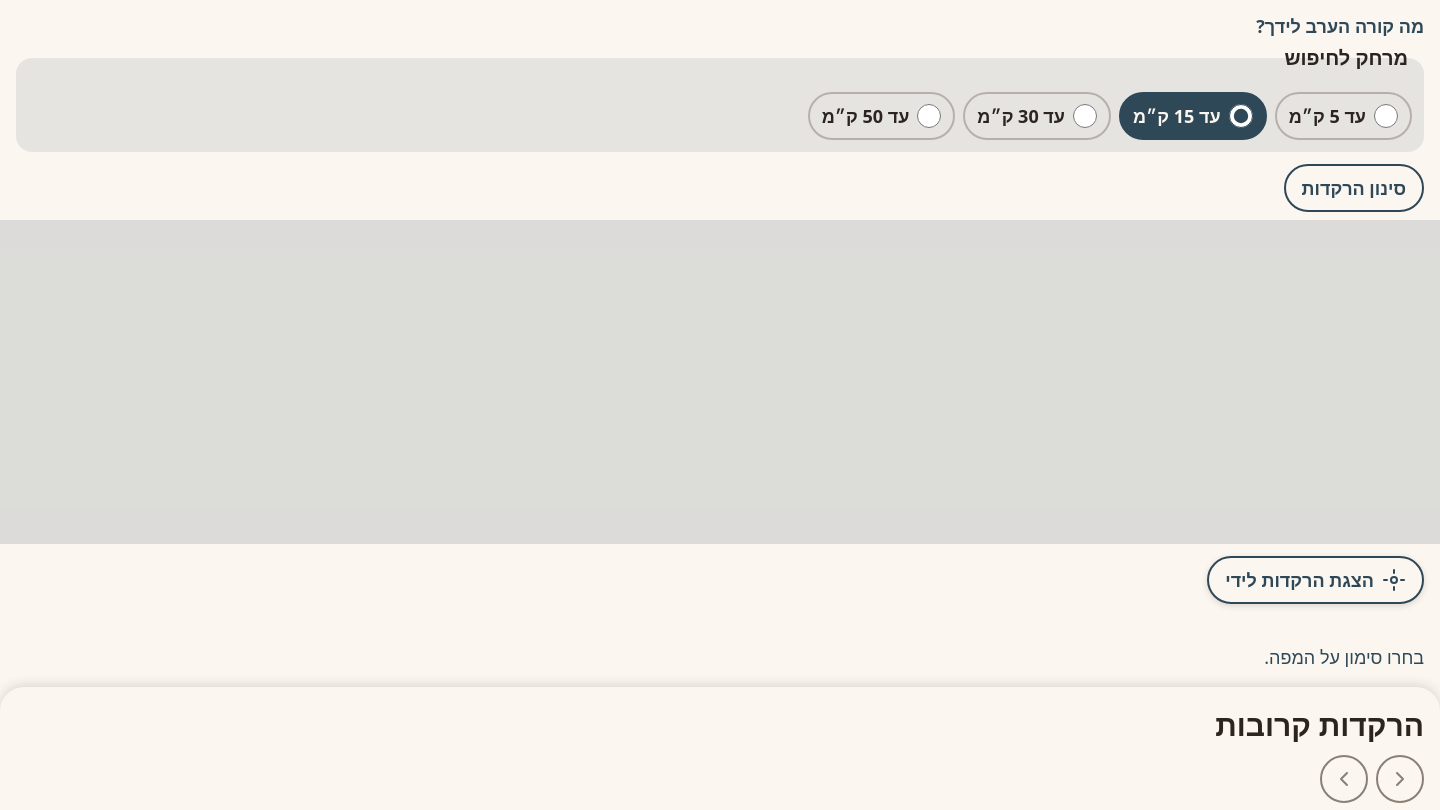
it: NearbyDances before anyone is located › re-queries the current centre with the chosen radius and updates pins and rings
Click the radio button labelled "עד 30 ק״מ": (1085, 116) [1073,104,1097,128]
(page scrolled)
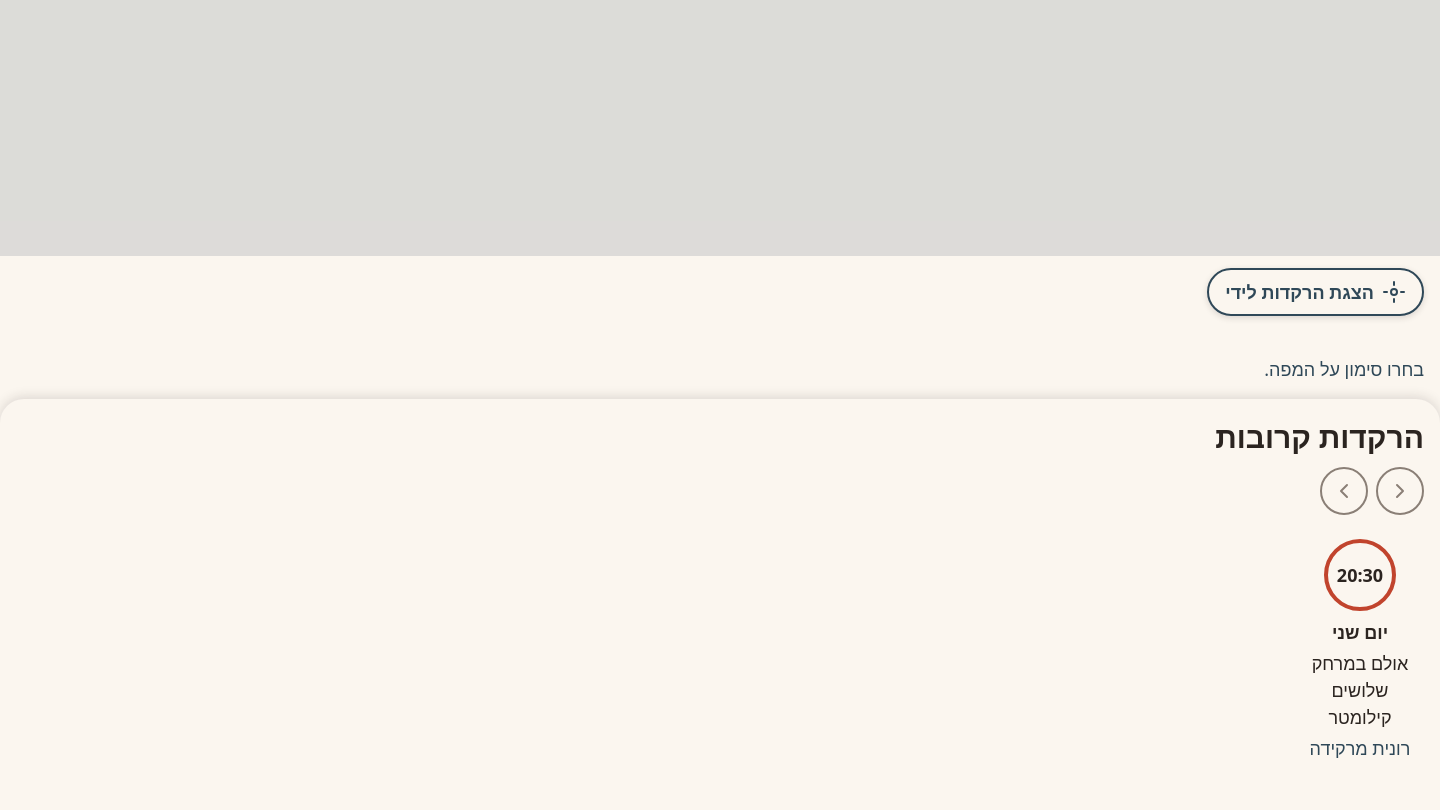
Expected: the list named "רשימת ההרקדות הקרובות" shows "אולם במרחק שלושים קילומטר", [1312,651,1408,729]
Expected: the list named "רשימת ההרקדות הקרובות" no longer shows "היכל התרבות חולון", [1310,539,1410,760]
